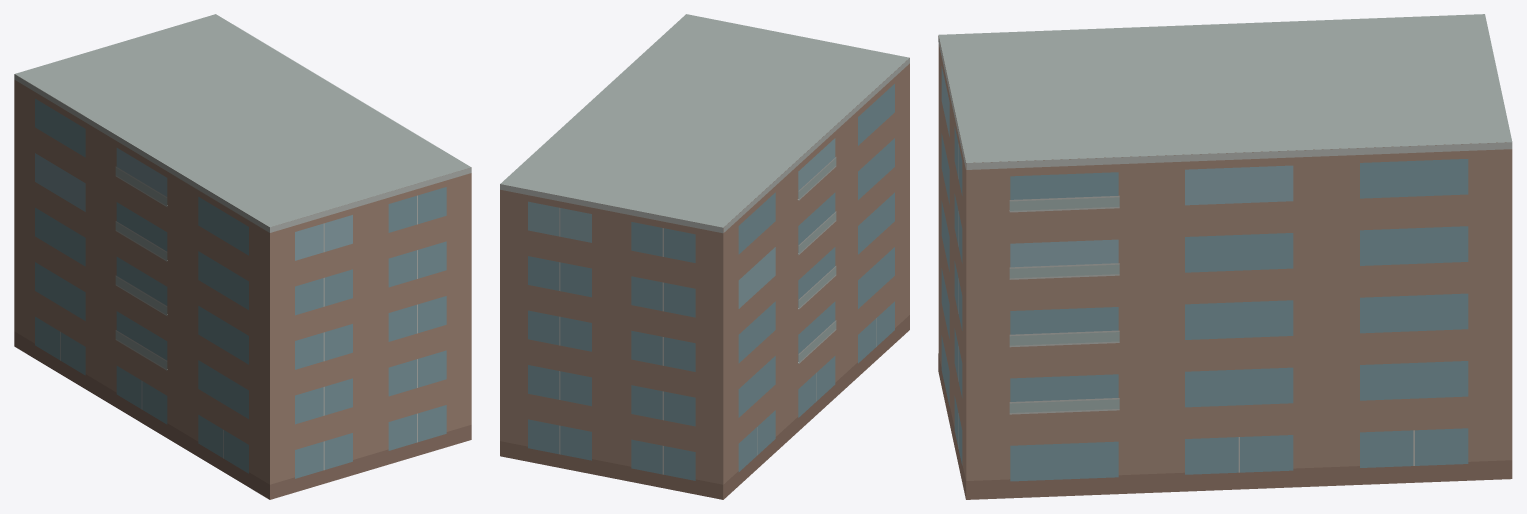
File: survey-upis-32655251.glb
3 renders of one model, left to right at view 1: azimuth 30°, elevation 25°; view 2: azimuth 150°, elevation 25°; view 3: azimuth 270°, elevation 25°, orthographic. The views are drawn at different scales.
Visible parts, largest first — view 1: survey-upis-32655251.tmp; view 2: survey-upis-32655251.tmp; view 3: survey-upis-32655251.tmp.
Boxes of the visible parts, box(x1,y1,x2,y2) form: survey-upis-32655251.tmp: box(14, 14, 471, 499); survey-upis-32655251.tmp: box(500, 14, 909, 499); survey-upis-32655251.tmp: box(938, 14, 1512, 499).
Size of the model in its own units: 11.16 by 11.75 by 18.16.
